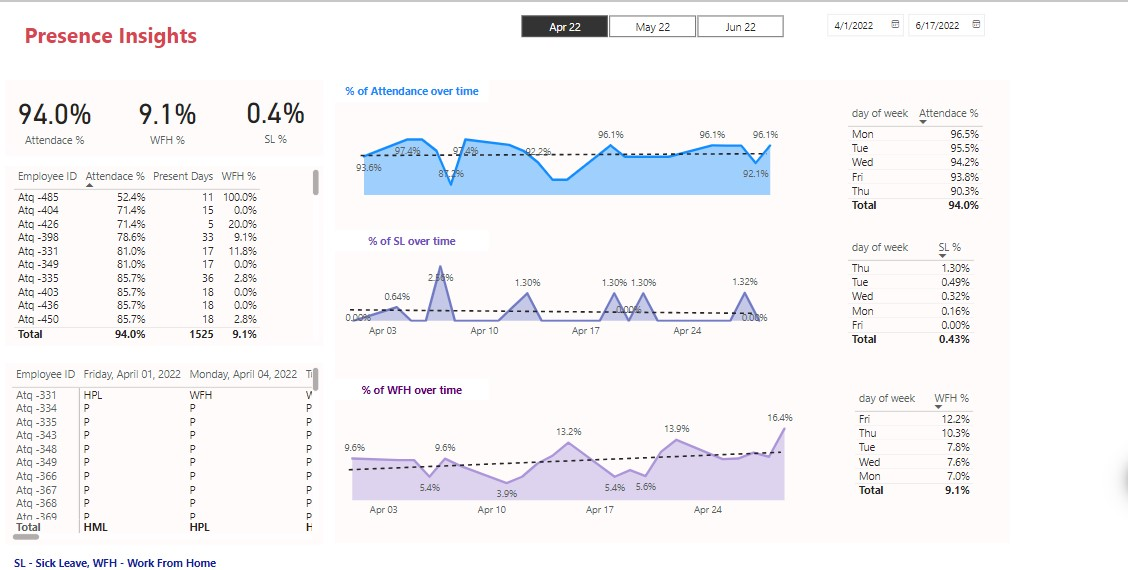

The page's visual inventory and layout, read from the dashboard file:
{"tool":"powerbi","page":{"name":"Presence Insights","canvas":[1280,720],"ordinal":0},"visuals":[{"type":"textbox","box":[7.8,205.6,399.9,225.5],"z":0},{"type":"textbox","box":[7.8,453.3,399.8,227.6],"z":1000},{"type":"textbox","box":[422.3,97.9,848.1,582.3],"z":2000},{"type":"textbox","box":[7.8,98,399.9,95.4],"z":3000},{"type":"tableEx","fields":{"Values":["Final Data.Employee ID","Measures (2).Attendace %","Measures (2).Present Days","Measures (2).WFH %"]},"box":[12.6,205.2,394.9,225.7],"z":4000},{"type":"slicer","fields":{"Values":["Final Data.Date"]},"box":[1027.3,5.2,252.7,46.3],"z":5000},{"type":"slicer","fields":{"Values":["Final Data.MMM YY"]},"box":[630.4,10.5,379.5,35.8],"z":6000},{"type":"areaChart","fields":{"Category":["Final Data.MMM YY","Final Data.Date"],"Y":["Measures (2).WFH %"]},"box":[420.7,502.3,589,153.5],"z":7000},{"type":"areaChart","fields":{"Category":["Final Data.WeekNo","Final Data.Date"],"Y":["Measures (2).Attendace %"]},"box":[444.1,144.9,540.4,103.2],"z":8000},{"type":"card","fields":{"Values":["Measures (2).Attendace %"]},"box":[7.8,98,124,96.3],"z":9000},{"type":"card","fields":{"Values":["Measures (2).WFH %"]},"box":[141.4,98,138.8,96.3],"z":10000},{"type":"areaChart","fields":{"Category":["Final Data.MMM YY","Final Data.Date"],"Y":["Measures (2).SL %"]},"box":[422.5,307.1,556,124],"z":11000},{"type":"card","fields":{"Values":["Measures (2).SL %"]},"box":[286.3,97.2,121.4,96.3],"z":13000},{"type":"textbox","box":[0,0,280.8,71.6],"z":14000},{"type":"textbox","box":[422.4,98.2,192.5,27.5],"z":15000},{"type":"textbox","box":[422.5,286.3,192.6,26.9],"z":16000},{"type":"textbox","box":[422.1,473.7,192.6,27.2],"z":17000},{"type":"pivotTable","fields":{"Rows":["Final Data.Employee ID"],"Columns":["Final Data.Date"],"Values":["Min(Final Data.Value)"]},"box":[11.7,453.3,395.9,227.6],"z":18000},{"type":"textbox","box":[13.6,691.6,289.8,28.2],"z":19000},{"type":"tableEx","fields":{"Values":["Final Data.day of week","Measures (2).Attendace %"]},"box":[1060.9,125.8,209.9,145.7],"z":20000},{"type":"tableEx","fields":{"Values":["Final Data.day of week","Measures (2).SL %"]},"box":[1060.9,294.1,191.7,167.4],"z":21000},{"type":"tableEx","fields":{"Values":["Final Data.day of week","Measures (2).WFH %"]},"box":[1068.7,483.2,170,167.4],"z":22000}]}

Visuals, with their boxes on the page's 1280x720 design canvas (x1, y1, x2, y2). These are canvas units, not pixel positions in the 1128x570 screenshot, which may show the page scaled, cropped or inside an application window:
textbox: 8 206 408 431
textbox: 8 453 408 681
textbox: 422 98 1270 680
textbox: 8 98 408 193
tableEx - Final Data.Employee ID x Measures (2).Attendace %: 13 205 408 431
slicer - Final Data.Date: 1027 5 1280 52
slicer - Final Data.MMM YY: 630 10 1010 46
areaChart - Final Data.MMM YY x Final Data.Date: 421 502 1010 656
areaChart - Final Data.WeekNo x Final Data.Date: 444 145 984 248
card - Measures (2).Attendace %: 8 98 132 194
card - Measures (2).WFH %: 141 98 280 194
areaChart - Final Data.MMM YY x Final Data.Date: 422 307 978 431
card - Measures (2).SL %: 286 97 408 194
textbox: 0 0 281 72
textbox: 422 98 615 126
textbox: 422 286 615 313
textbox: 422 474 615 501
pivotTable - Final Data.Employee ID x Final Data.Date: 12 453 408 681
textbox: 14 692 303 720
tableEx - Final Data.day of week x Measures (2).Attendace %: 1061 126 1271 272
tableEx - Final Data.day of week x Measures (2).SL %: 1061 294 1253 462
tableEx - Final Data.day of week x Measures (2).WFH %: 1069 483 1239 651
